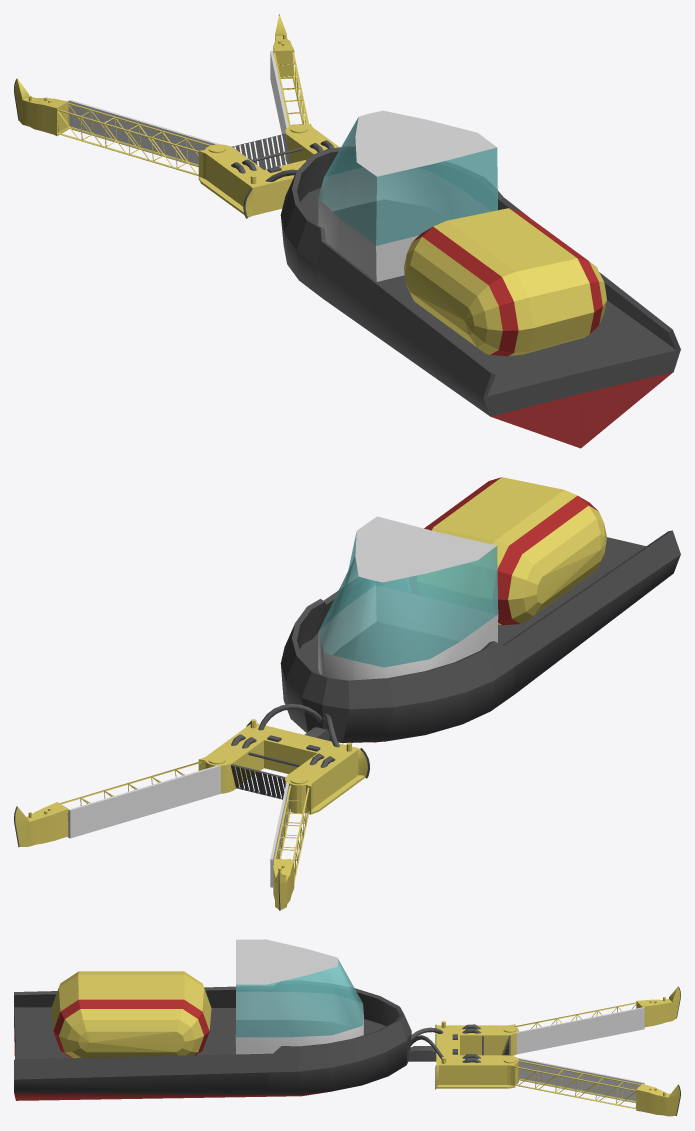
The model's file is CapacityScraper.fbx.
3 views of the same model, one above another, from view 1: azimuth 30°, elevation 25°; view 2: azimuth 150°, elevation 25°; view 3: azimuth 270°, elevation 25° (orthographic). The views are drawn at different scales.
Visible parts, largest first — view 1: polySurface315; view 2: polySurface315; view 3: polySurface315.
Boxes of the visible parts, bbox=[...] form: polySurface315: bbox=[14, 14, 680, 448]; polySurface315: bbox=[14, 477, 680, 910]; polySurface315: bbox=[14, 939, 680, 1116].
Bounding box in the file's own units: 44.06 × 28.74 × 125.
